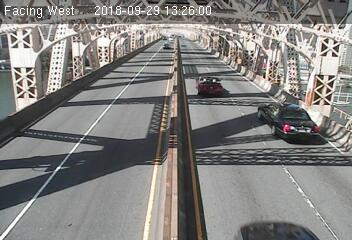car: (252, 100, 320, 142), (222, 218, 317, 240), (194, 73, 224, 94), (160, 41, 170, 49)
